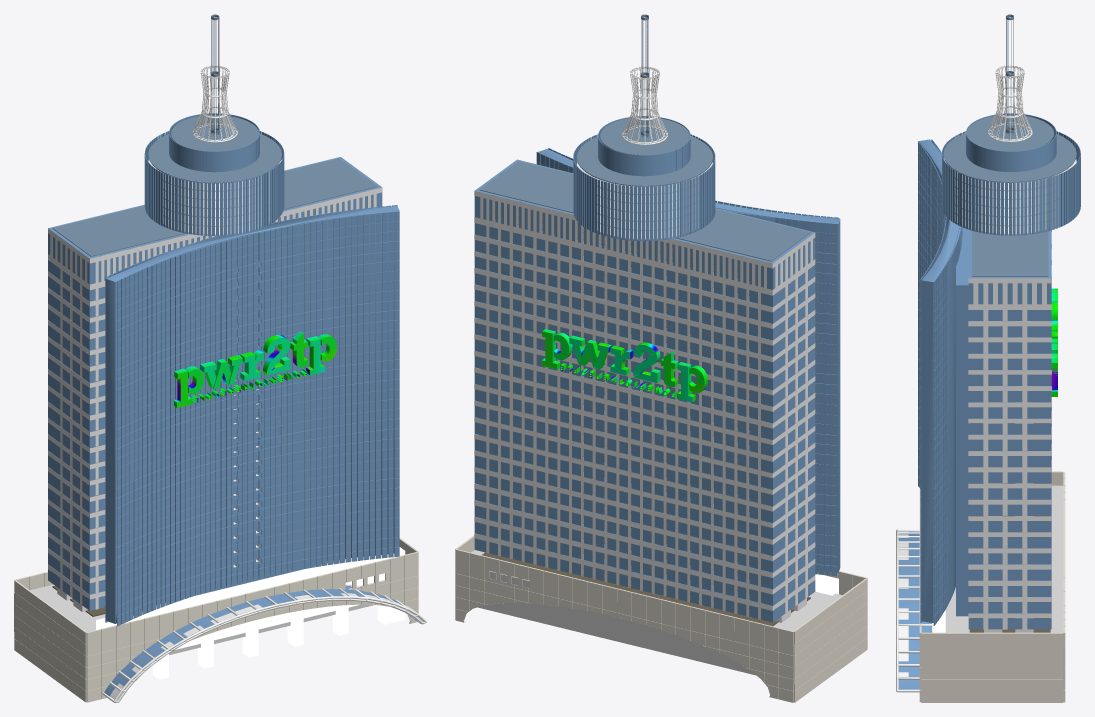
Rendered from wtc.glb.
3 renders of one model, left to right at view 1: azimuth 30°, elevation 25°; view 2: azimuth 150°, elevation 25°; view 3: azimuth 270°, elevation 25°, orthographic. The views are drawn at different scales.
Visible parts, largest first — view 1: Curve.001; view 2: Curve.001; view 3: Curve.001.
Part boxes in pixels (x1,y1,x2,y2): Curve.001: (14,14,426,702); Curve.001: (455,14,867,702); Curve.001: (896,14,1080,702).
Size of the model in its own units: 61.84 by 109 by 29.79.
11 materials, 1 textured.
